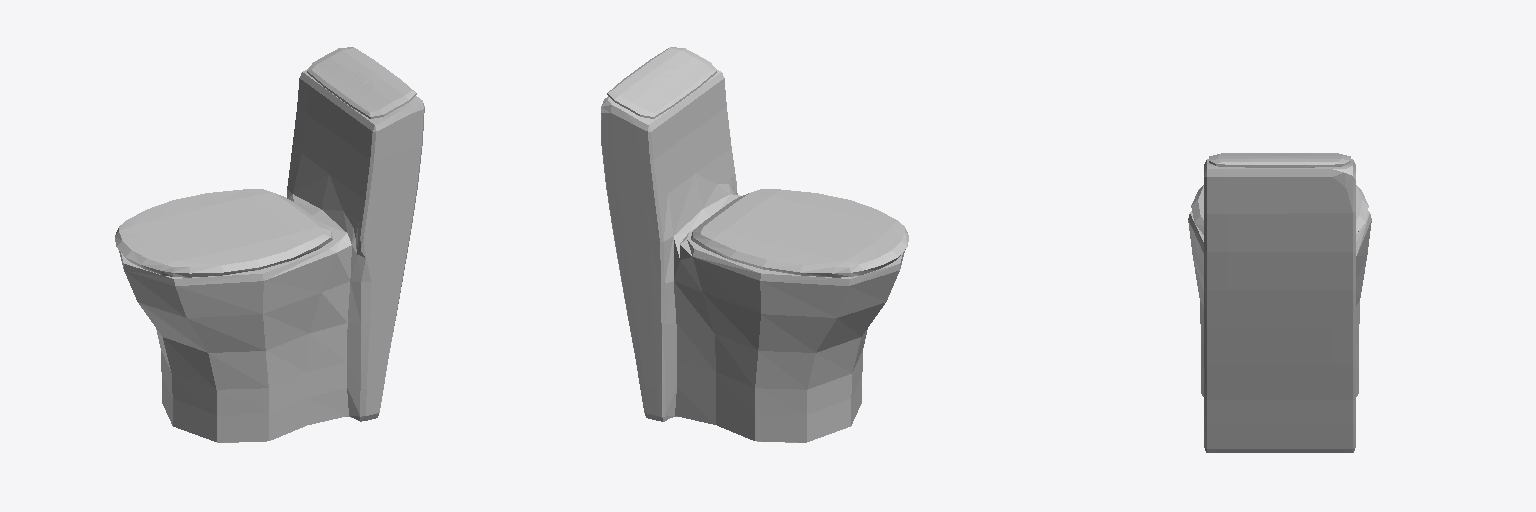
File: Toilet.obj
3 views of the same model, side by side, from view 1: azimuth 30°, elevation 25°; view 2: azimuth 150°, elevation 25°; view 3: azimuth 270°, elevation 25° (orthographic).
Parts seen in each view (by area): view 1: 1.Toilet_Cover_Top_Mesh.002; view 2: 1.Toilet_Cover_Top_Mesh.002; view 3: 1.Toilet_Cover_Top_Mesh.002.
Part boxes in pixels (x1,y1,x2,y2): 1.Toilet_Cover_Top_Mesh.002: (115,47,424,442); 1.Toilet_Cover_Top_Mesh.002: (601,47,908,442); 1.Toilet_Cover_Top_Mesh.002: (1188,153,1371,452).
Size of the model in its own units: 4.02 by 4.53 by 2.42.